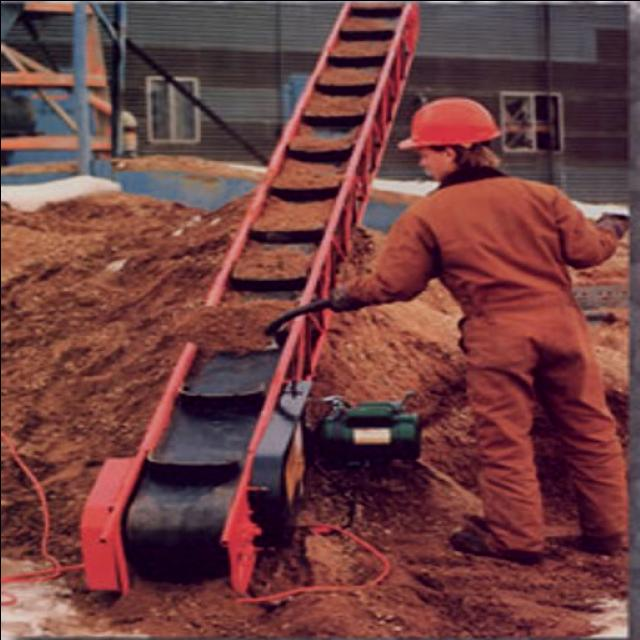conveyor: (117, 1, 412, 580)
